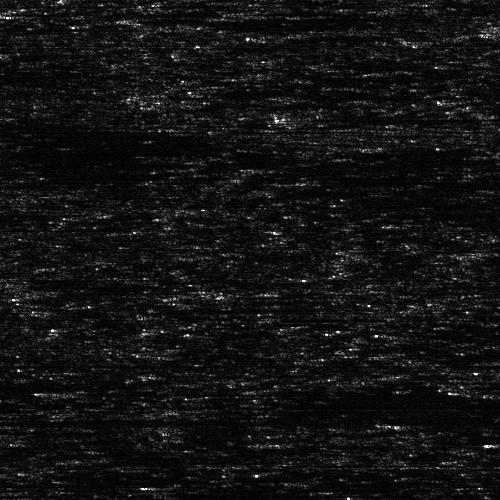rock: (220, 111, 377, 124), (79, 11, 214, 24), (143, 85, 248, 98), (18, 388, 81, 395), (277, 176, 330, 181), (278, 92, 319, 97)
shadow: (147, 11, 411, 24), (299, 111, 481, 124), (196, 85, 373, 98), (50, 388, 235, 395), (304, 176, 488, 181), (0, 69, 59, 80), (0, 24, 122, 29), (299, 92, 389, 97)
